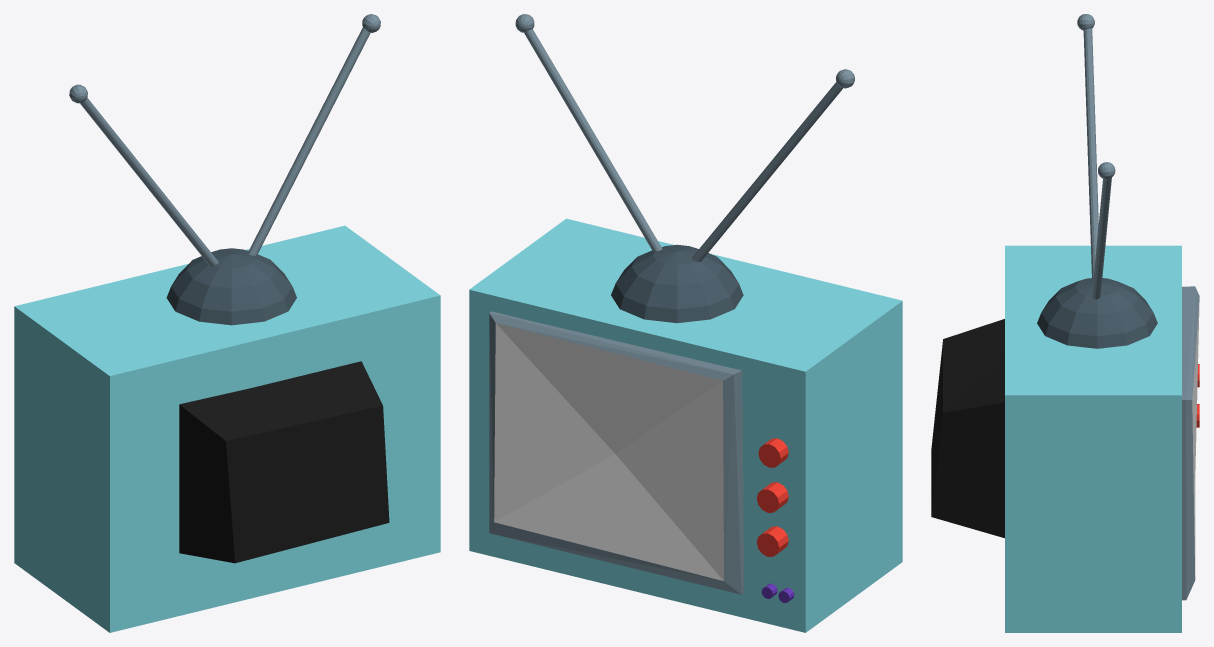
File: television.glb
The picture shows the model from 3 angles, left to right: view 1: azimuth 30°, elevation 25°; view 2: azimuth 150°, elevation 25°; view 3: azimuth 270°, elevation 25°; orthographic projection. The views are drawn at different scales.
Parts seen in each view (by area): view 1: group714386066, group1190924403, group2058855419, group1829058871, group1434178028; view 2: group714386066, group906480659, group2058855419, group1829058871, group1434178028, group1181941094, group109401676, group599738498; view 3: group714386066, group1190924403, group2058855419, group906480659, group1434178028, group1829058871.
Part boxes in pixels (left/top/right/bottom): group714386066: left=14, top=225, right=440, bottom=632; group1190924403: left=179, top=361, right=389, bottom=563; group2058855419: left=166, top=248, right=296, bottom=325; group1829058871: left=248, top=27, right=370, bottom=256; group1434178028: left=80, top=98, right=218, bottom=266; group714386066: left=469, top=218, right=902, bottom=632; group906480659: left=489, top=311, right=743, bottom=594; group2058855419: left=611, top=244, right=743, bottom=323; group1829058871: left=524, top=29, right=662, bottom=251; group1434178028: left=692, top=82, right=843, bottom=261; group1181941094: left=756, top=526, right=788, bottom=556; group109401676: left=756, top=482, right=788, bottom=512; group599738498: left=758, top=438, right=788, bottom=467; group714386066: left=1005, top=245, right=1181, bottom=632; group1190924403: left=931, top=319, right=1004, bottom=538; group2058855419: left=1037, top=278, right=1157, bottom=348; group906480659: left=1182, top=286, right=1199, bottom=600; group1434178028: left=1083, top=28, right=1098, bottom=278; group1829058871: left=1092, top=177, right=1111, bottom=299.
Size of the model in its own units: 1.2 by 1.78 by 0.91.
